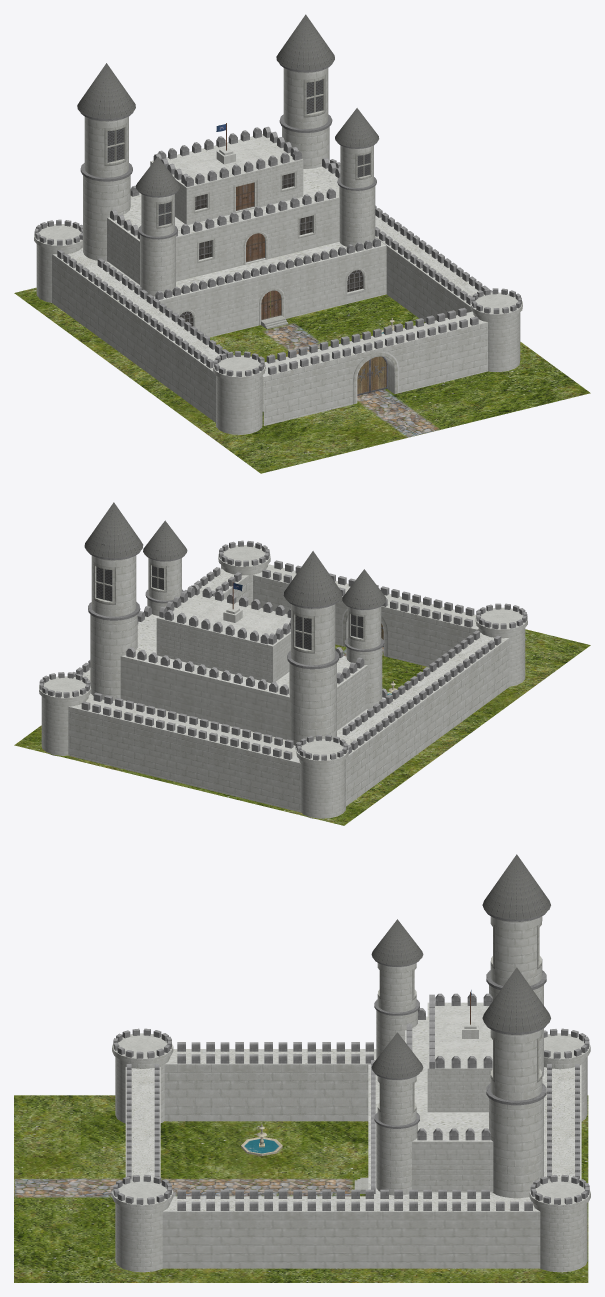
The model's file is castle.obj.
The picture shows the model from 3 angles, top to bottom: view 1: azimuth 30°, elevation 25°; view 2: azimuth 150°, elevation 25°; view 3: azimuth 270°, elevation 25°; orthographic projection. The views are drawn at different scales.
Parts seen in each view (by area): view 1: Castle_OBJ; view 2: Castle_OBJ; view 3: Castle_OBJ.
Part boxes in pixels (bbox=[...]): Castle_OBJ: bbox=[14, 14, 590, 473]; Castle_OBJ: bbox=[14, 502, 590, 825]; Castle_OBJ: bbox=[14, 854, 590, 1282].
Size of the model in its own units: 58.11 by 40.26 by 75.6.
4 materials, 4 textured.
